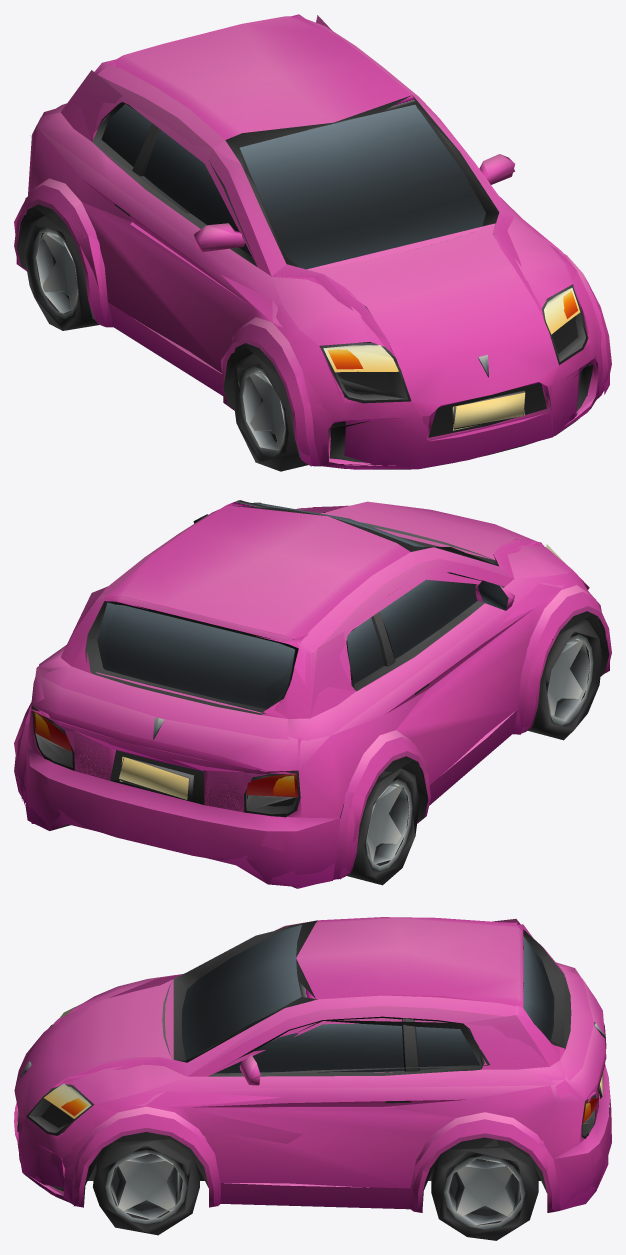
File: Car_7D.fbx
3 views of the same model, one above another, from view 1: azimuth 30°, elevation 25°; view 2: azimuth 150°, elevation 25°; view 3: azimuth 270°, elevation 25° (orthographic). The views are drawn at different scales.
Parts seen in each view (by area): view 1: Car_7D, Car_7D_LOD!, Wheel_7D_R.R, Wheel_7D_F.R; view 2: Car_7D, Car_7D_LOD!, Wheel_7D_F.R, Wheel_7D_R.R; view 3: Car_7D, Car_7D_LOD!, Wheel_7D_R.L, Wheel_7D_F.L.
Part boxes in pixels (x1,y1,x2,y2): Car_7D: [14, 16, 611, 469]; Car_7D_LOD!: [14, 14, 609, 466]; Wheel_7D_R.R: [23, 212, 99, 330]; Wheel_7D_F.R: [232, 353, 308, 471]; Car_7D: [14, 500, 611, 883]; Car_7D_LOD!: [14, 500, 609, 888]; Wheel_7D_F.R: [527, 619, 601, 740]; Wheel_7D_R.R: [346, 768, 419, 885]; Car_7D: [14, 917, 611, 1212]; Car_7D_LOD!: [18, 919, 608, 1212]; Wheel_7D_R.L: [431, 1139, 538, 1240]; Wheel_7D_F.L: [93, 1139, 199, 1235].
Size of the model in its own units: 266 by 186 by 459.
